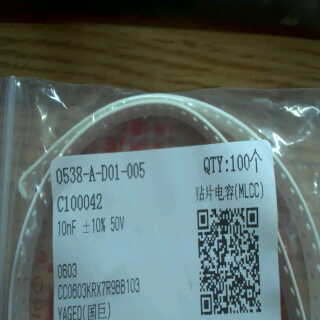10nF: (55, 219, 78, 241)
